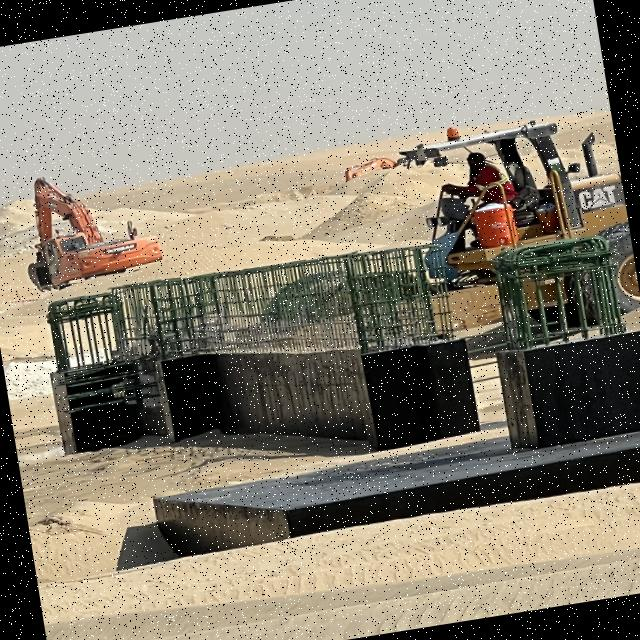Excavator: (10, 156, 168, 301)
Roller: (394, 101, 640, 340)
